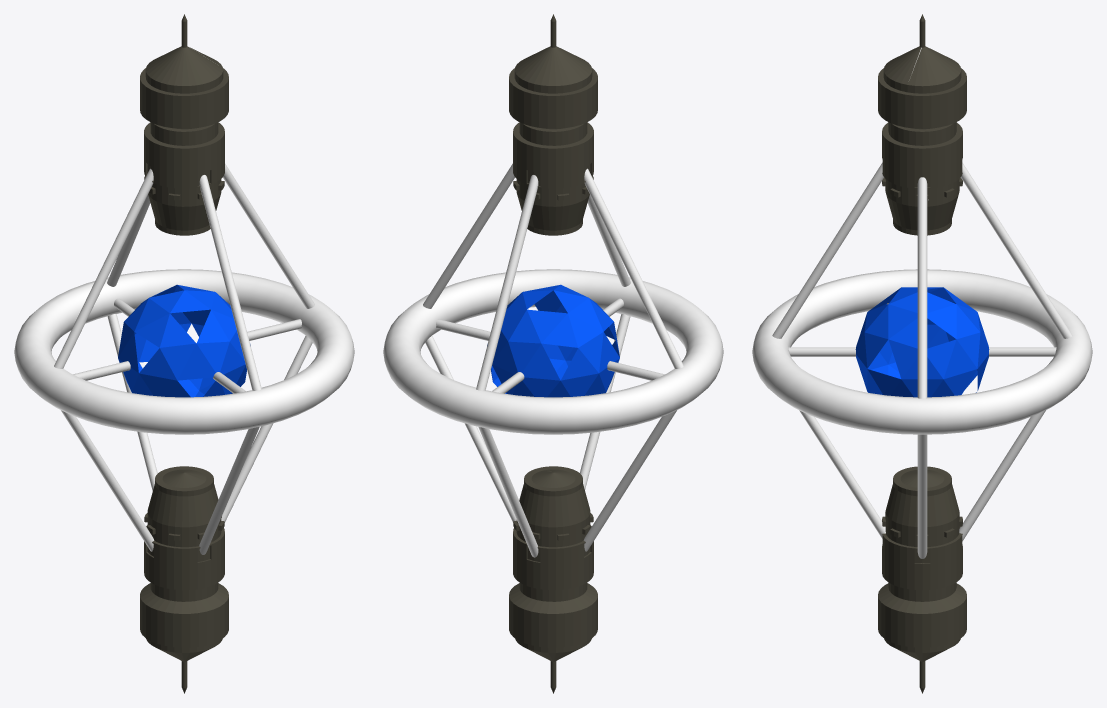
The model's file is spacestation.glb.
The picture shows the model from 3 angles, left to right: view 1: azimuth 30°, elevation 25°; view 2: azimuth 150°, elevation 25°; view 3: azimuth 270°, elevation 25°; orthographic projection.
Visible parts, largest first — view 1: Torus, Cylinder.008, Cylinder.013, dysonSphere, Cylinder.007, Cylinder.005, Cylinder.004, Cylinder.010, Cylinder.012, Cylinder.009, Cylinder.011, Cylinder.006 (+2 smaller); view 2: Torus, Cylinder.008, Cylinder.013, dysonSphere, Cylinder.006, Cylinder.005, Cylinder.004, Cylinder.010, Cylinder.011, Cylinder.009, Cylinder.012, Cylinder.007 (+2 smaller); view 3: Torus, Cylinder.008, Cylinder.013, dysonSphere, Cylinder.004, Cylinder.006, Cylinder.007, Cylinder.011, Cylinder.012, Cylinder.009, Cylinder, Cylinder.001.
Part boxes in pixels (box(x1,y1,x2,y2)): Torus: box(14, 269, 354, 434); Cylinder.008: box(140, 466, 228, 693); Cylinder.013: box(140, 14, 228, 235); dysonSphere: box(118, 284, 250, 397); Cylinder.007: box(199, 175, 261, 390); Cylinder.005: box(54, 168, 153, 368); Cylinder.004: box(223, 163, 314, 308); Cylinder.010: box(61, 410, 154, 551); Cylinder.012: box(199, 427, 259, 554); Cylinder.009: box(221, 335, 312, 522); Cylinder.011: box(107, 314, 157, 490); Cylinder.006: box(107, 195, 150, 286); Torus: box(383, 269, 723, 434); Cylinder.008: box(509, 466, 597, 693); Cylinder.013: box(509, 14, 597, 235); dysonSphere: box(487, 284, 619, 397); Cylinder.006: box(476, 175, 538, 390); Cylinder.005: box(584, 168, 683, 368); Cylinder.004: box(423, 163, 514, 308); Cylinder.010: box(583, 410, 676, 551); Cylinder.011: box(478, 427, 538, 557); Cylinder.009: box(425, 335, 516, 522); Cylinder.012: box(580, 314, 630, 489); Cylinder.007: box(587, 195, 630, 286); Torus: box(752, 269, 1092, 434); Cylinder.008: box(878, 466, 966, 693); Cylinder.013: box(878, 14, 966, 235); dysonSphere: box(855, 287, 989, 397); Cylinder.004: box(917, 177, 927, 398); Cylinder.006: box(960, 162, 1072, 338); Cylinder.007: box(772, 162, 884, 338); Cylinder.011: box(959, 410, 1045, 541); Cylinder.012: box(799, 410, 885, 538); Cylinder.009: box(917, 434, 927, 558); Cylinder: box(989, 347, 1056, 356); Cylinder.001: box(788, 347, 855, 356).
Bounding box in the file's own units: 10 × 22.03 × 10.
